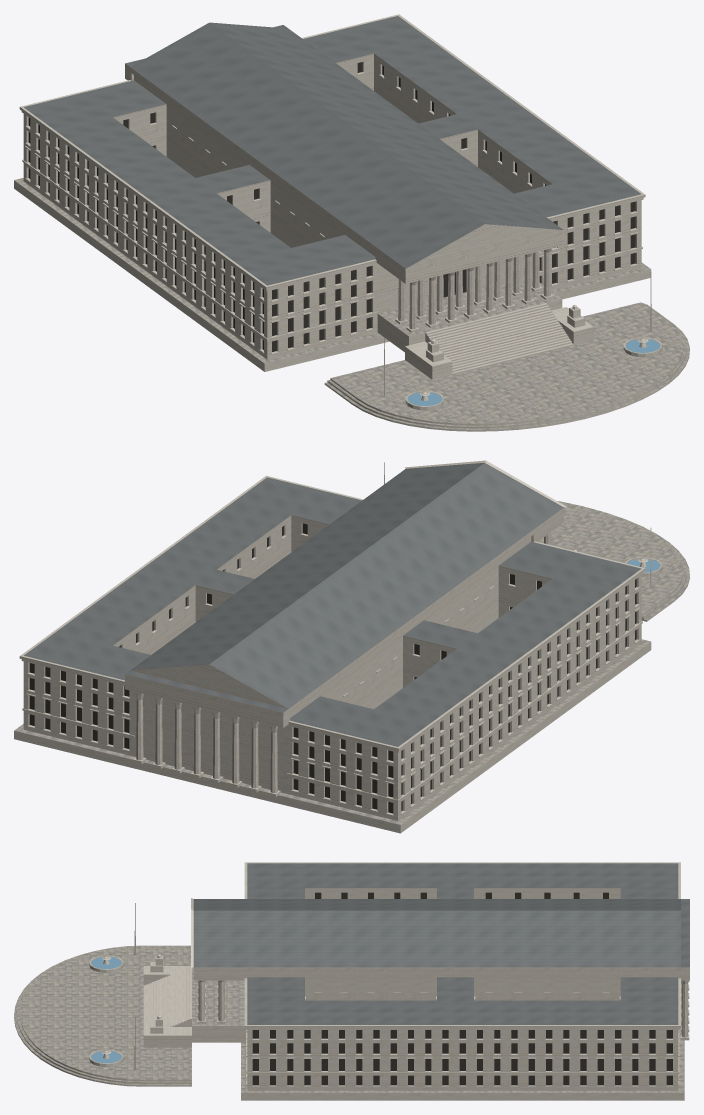
Rendered from supreme_court.glb.
3 renders of one model, top to bottom at view 1: azimuth 30°, elevation 25°; view 2: azimuth 150°, elevation 25°; view 3: azimuth 270°, elevation 25°, orthographic. The views are drawn at different scales.
Parts seen in each view (by area): view 1: supreme_court; view 2: supreme_court; view 3: supreme_court.
Boxes of the visible parts, bbox=[...] form: supreme_court: bbox=[14, 14, 689, 431]; supreme_court: bbox=[14, 460, 689, 833]; supreme_court: bbox=[14, 862, 689, 1100].
Size of the model in its own units: 95.71 by 28.79 by 164.
Materials: 5 (5 with a texture image).
